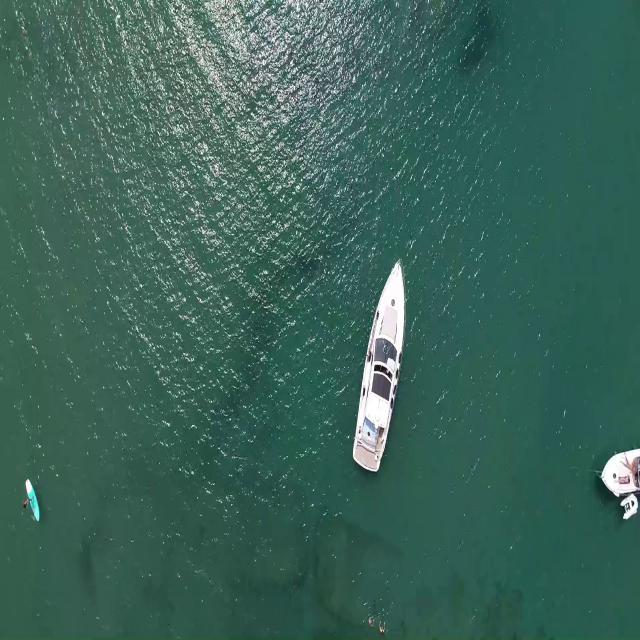boat: (351, 258, 405, 472), (598, 443, 640, 520)
person: (23, 494, 33, 509), (367, 614, 376, 626)
surfboard: (26, 478, 40, 524)
